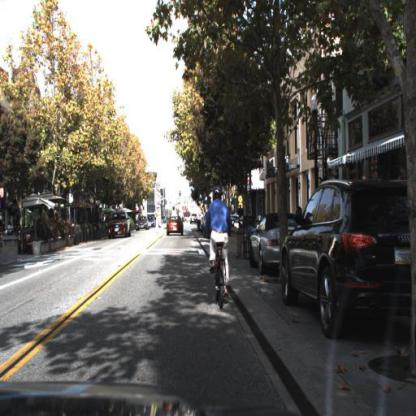biker: (209, 188, 232, 306)
car: (279, 174, 416, 345), (280, 176, 415, 343), (248, 210, 299, 277), (104, 211, 131, 242), (165, 212, 186, 236), (135, 214, 153, 231), (135, 217, 151, 233)
pedestrian: (107, 212, 131, 243)
